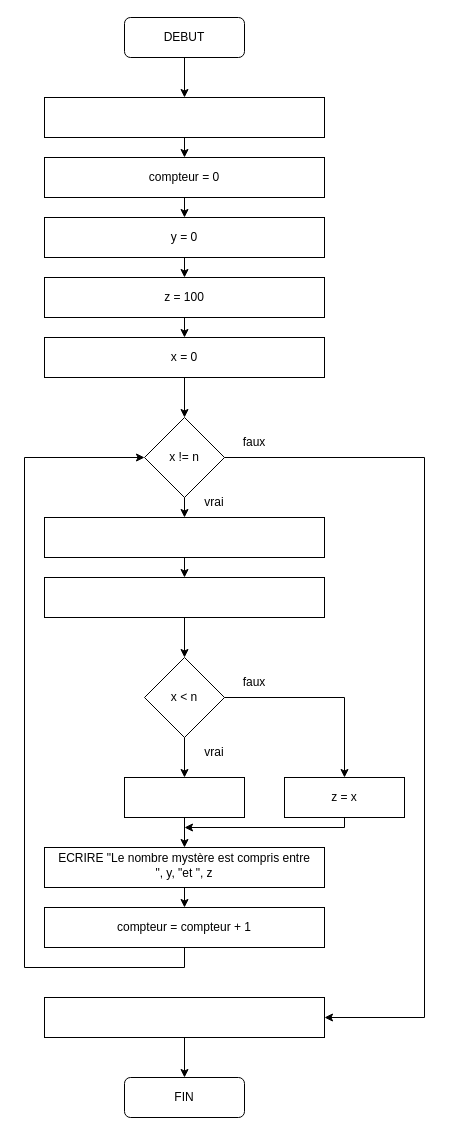
Some shapes in this 450 by 1135 pixel diagram are drawn without their labels. The box of each missing label's shape, as (x1, y1, x2, y2) in pixels:
ECRIRE "Bravo vous avez trouvé en ", compteur, " essais": (44, 996, 324, 1038)
ECRIRE "Veuillez saisir votre nombre entier : ": (44, 516, 324, 558)
LIRE x: (44, 576, 324, 618)
n = random(0,100): (44, 96, 324, 138)
y = x: (124, 776, 244, 818)
